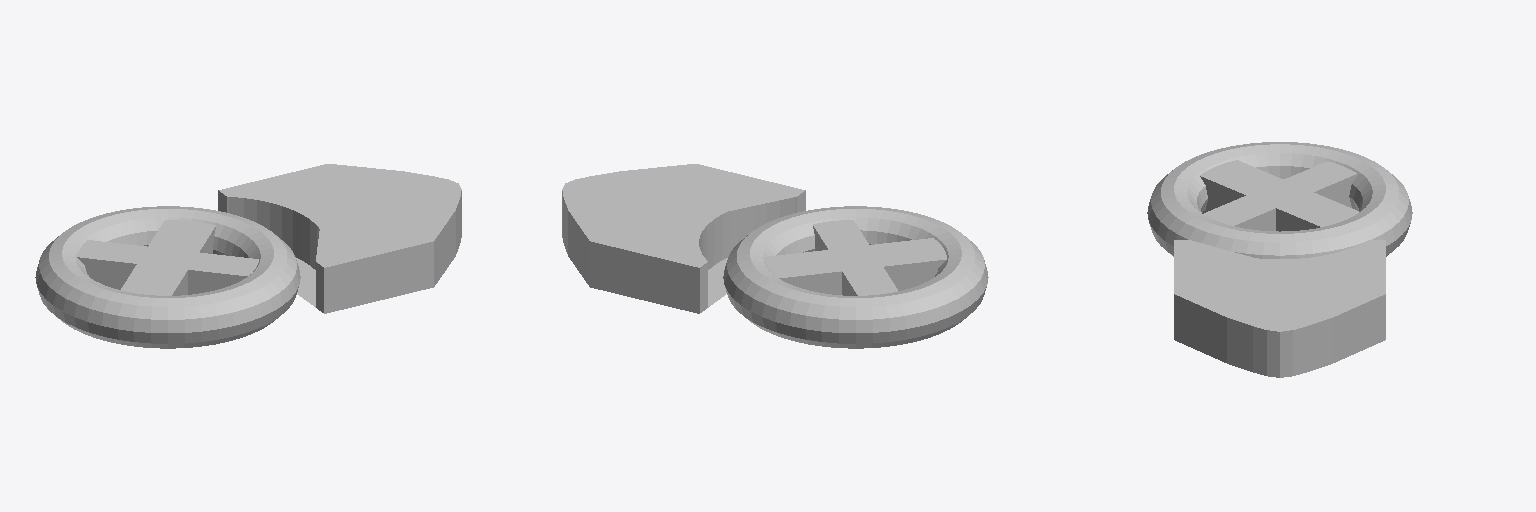
Rendered from NoMachineSymbol.obj.
3 renders of one model, left to right at view 1: azimuth 30°, elevation 25°; view 2: azimuth 150°, elevation 25°; view 3: azimuth 270°, elevation 25°, orthographic.
Parts seen in each view (by area): view 1: Cube.002_Cube.003, Torus, Cube; view 2: Cube.002_Cube.003, Torus, Cube; view 3: Cube.002_Cube.003, Torus, Cube.
Boxes of the visible parts, box(x1,y1,x2,y2) form: Cube.002_Cube.003: box(218, 164, 461, 313); Torus: box(35, 206, 300, 348); Cube: box(77, 220, 258, 295); Cube.002_Cube.003: box(562, 164, 805, 313); Torus: box(723, 206, 988, 348); Cube: box(765, 220, 946, 295); Cube.002_Cube.003: box(1174, 240, 1385, 377); Torus: box(1147, 142, 1412, 258); Cube: box(1200, 160, 1358, 231).
Size of the model in its own units: 4.41 by 0.5 by 2.5.